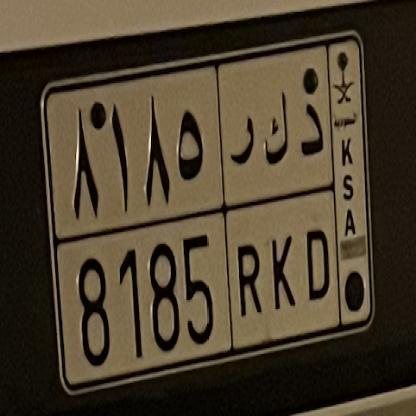english: (51, 218, 338, 387)
